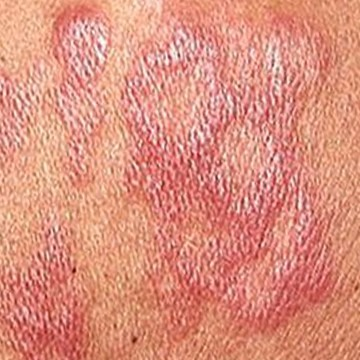Leprosy: (123, 13, 350, 331), (0, 213, 109, 359), (41, 8, 120, 173), (0, 52, 44, 179)
